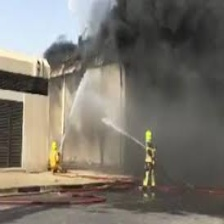smoke: (52, 1, 224, 178)
